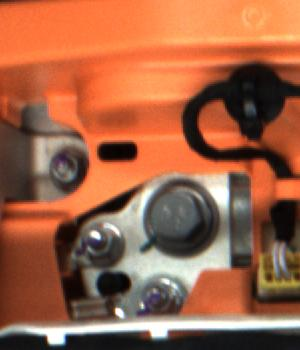nut_b: (136, 175, 221, 259)
